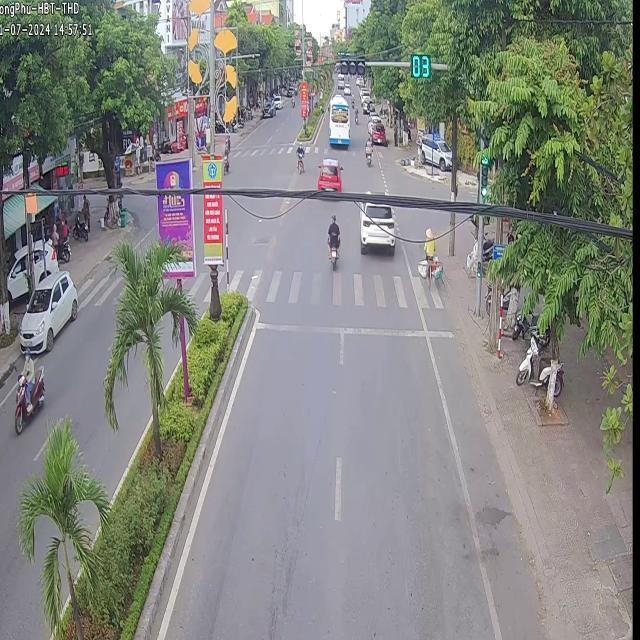car: (358, 200, 393, 254), (327, 94, 348, 146), (316, 156, 340, 189)
green_light: (338, 54, 364, 74), (478, 151, 487, 200)
motobike: (326, 214, 339, 269), (294, 142, 303, 171), (363, 138, 370, 165)
stop_line: (256, 322, 452, 337)
